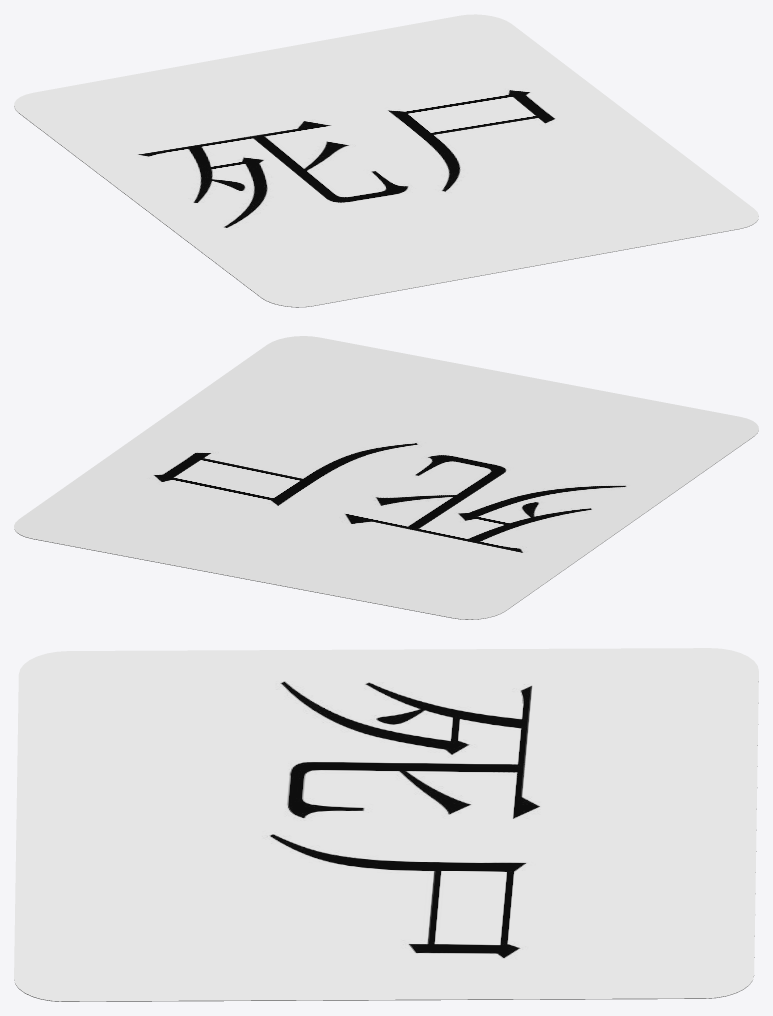
Rendered from SiShi.FBX.
3 renders of one model, top to bottom at view 1: azimuth 30°, elevation 25°; view 2: azimuth 150°, elevation 25°; view 3: azimuth 270°, elevation 25°, orthographic. The views are drawn at different scales.
Visible parts, largest first — view 1: Rectangle001; view 2: Rectangle001; view 3: Rectangle001.
Boxes of the visible parts, x1,y1,x2,y2 form: Rectangle001: (14, 14, 758, 307); Rectangle001: (14, 336, 758, 619); Rectangle001: (14, 648, 758, 1001).
Size of the model in its own units: 60.32 by 3.91 by 60.38.
